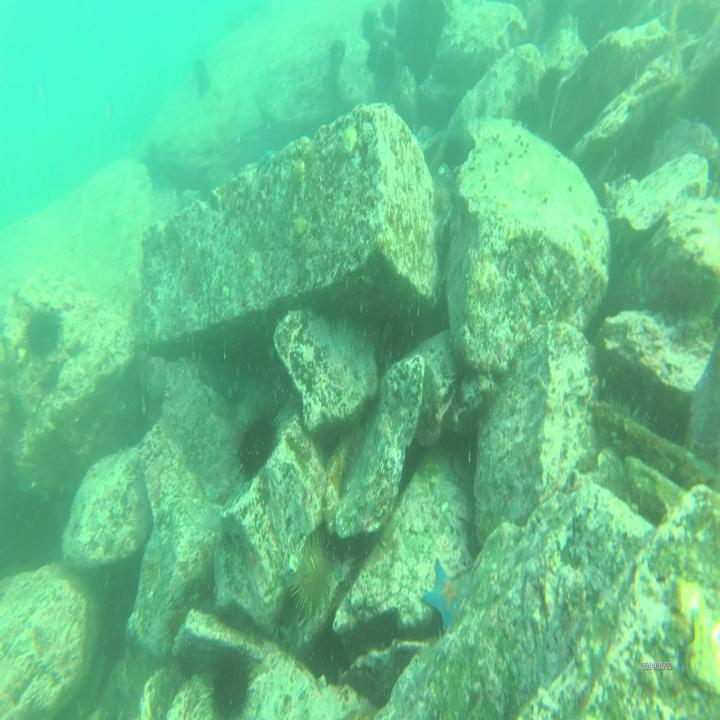echinus: (231, 403, 285, 491), (288, 530, 338, 618), (207, 640, 257, 720), (20, 301, 64, 357), (441, 127, 472, 174), (374, 40, 398, 98), (192, 51, 215, 95), (360, 6, 379, 42), (330, 34, 347, 74), (383, 0, 399, 28)
scallop: (288, 152, 309, 187), (339, 122, 359, 155)
starfish: (420, 554, 470, 635)
